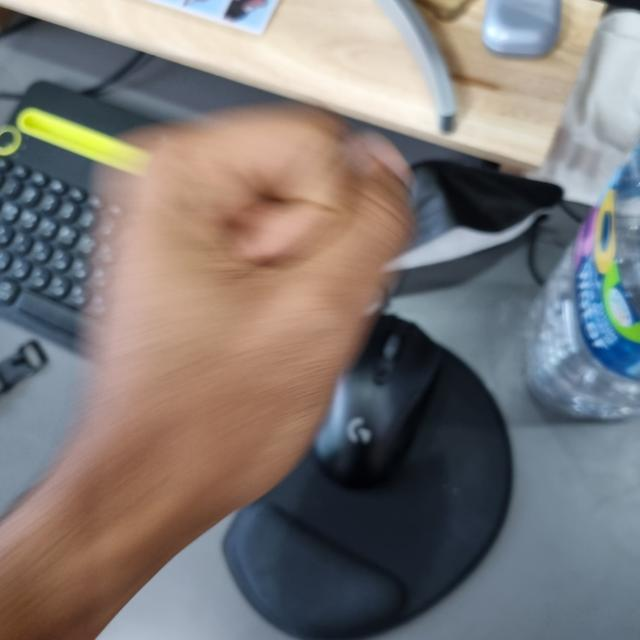Rock: (79, 106, 411, 510)
